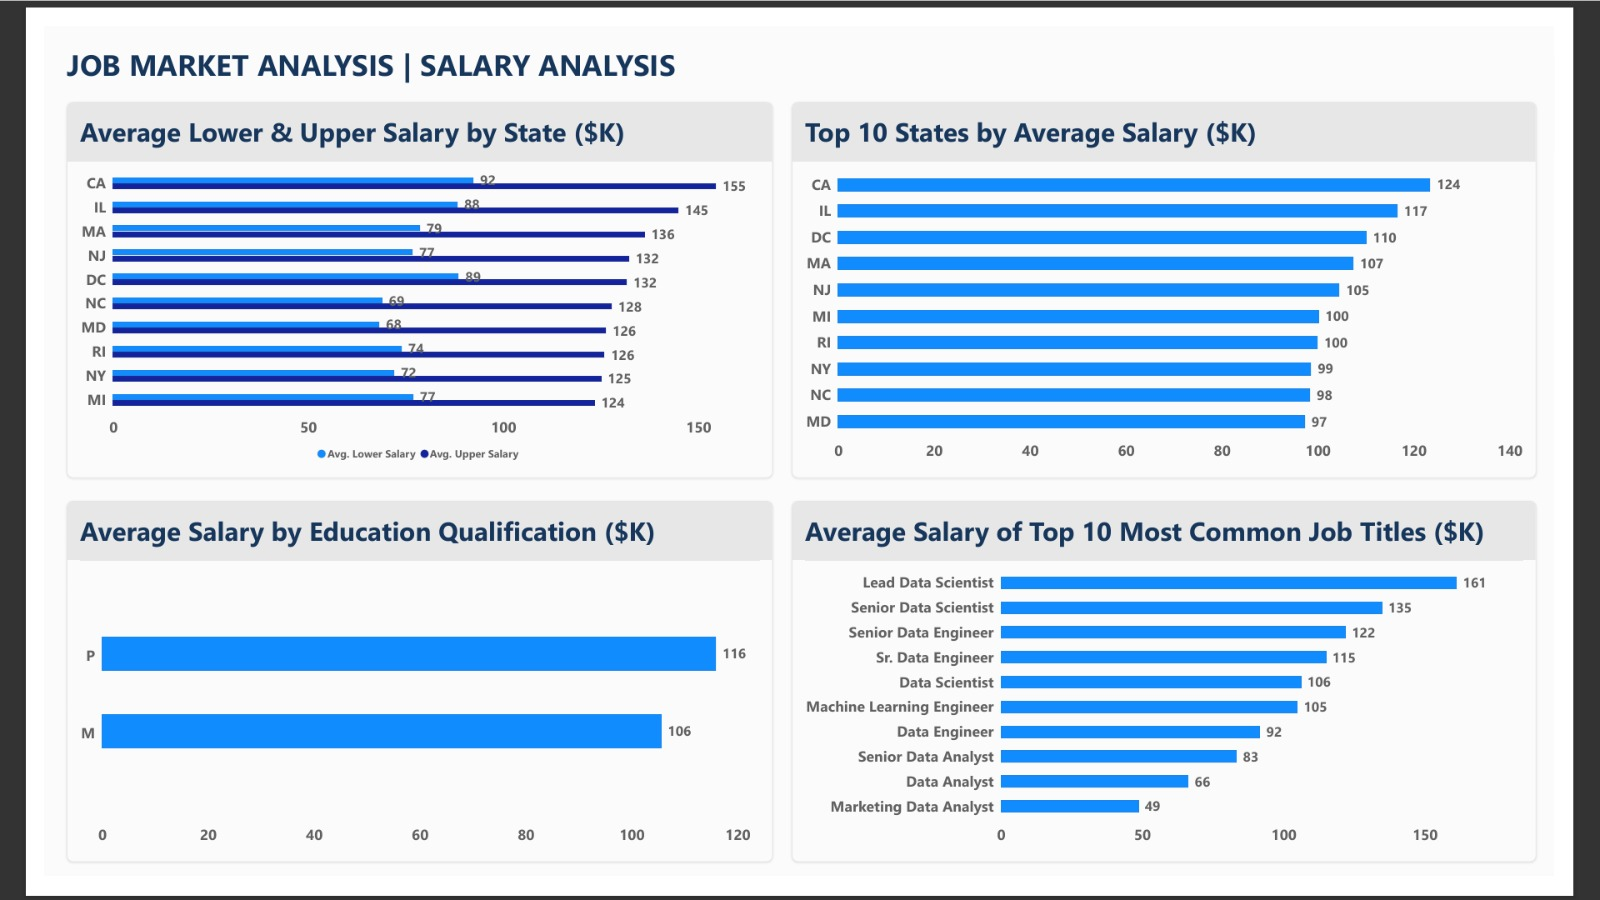

Layout of this report page (visuals, bound fields, positions):
{"tool":"powerbi","page":{"name":"Salary Analysis","canvas":[1920,1080],"ordinal":2},"visuals":[{"type":"clusteredBarChart","title":"Average Lower & Upper Salary by State ($K)","fields":{"Category":["Job_Market.Job_Location"],"Y":["Avg(Job_Market.Lower_Salary)","Avg(Job_Market.Upper_Salary)"]},"box":[28.1,96.1,897.9,478.3],"z":0},{"type":"clusteredBarChart","title":"Average Salary of Top 10 Most Common Job Titles ($K)","fields":{"Category":["Job_Market.Job_Title"],"Y":["Avg(Job_Market.Avg_SalaryK)"]},"box":[949.5,602.5,947.2,459.5],"z":1000},{"type":"clusteredBarChart","title":"Average Salary by Education Qualification ($K)","fields":{"Category":["Job_Market.Degree"],"Y":["Avg(Job_Market.Avg_SalaryK)"]},"box":[28.1,602.5,897.9,459.5],"z":2000},{"type":"clusteredBarChart","title":"Top 10 States by Average Salary ($K)","fields":{"Category":["Job_Market.Job_Location"],"Y":["Avg(Job_Market.Avg_SalaryK)"]},"box":[949.5,96.1,947.2,478.3],"z":3000},{"type":"textbox","box":[28.1,23.4,825.3,72.7],"z":4000}]}

Visuals, with their boxes in screenshot pixels (x1, y1, x2, y2), scaled from the page's 1920x1080 canvas onto the 1600x900 screenshot:
"Average Lower & Upper Salary by State ($K)" clusteredBarChart: crop(23, 80, 772, 479)
"Average Salary of Top 10 Most Common Job Titles ($K)" clusteredBarChart: crop(791, 502, 1581, 885)
"Average Salary by Education Qualification ($K)" clusteredBarChart: crop(23, 502, 772, 885)
"Top 10 States by Average Salary ($K)" clusteredBarChart: crop(791, 80, 1581, 479)
textbox: crop(23, 20, 711, 80)
